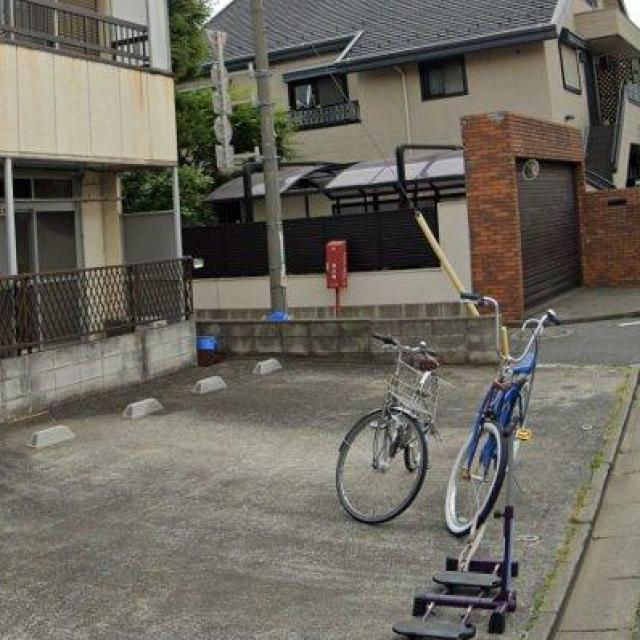bicycle: (447, 294, 564, 538), (337, 337, 443, 526)
